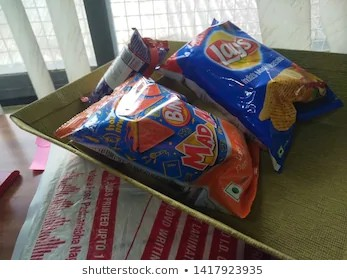lays-small: (152, 5, 344, 160)
